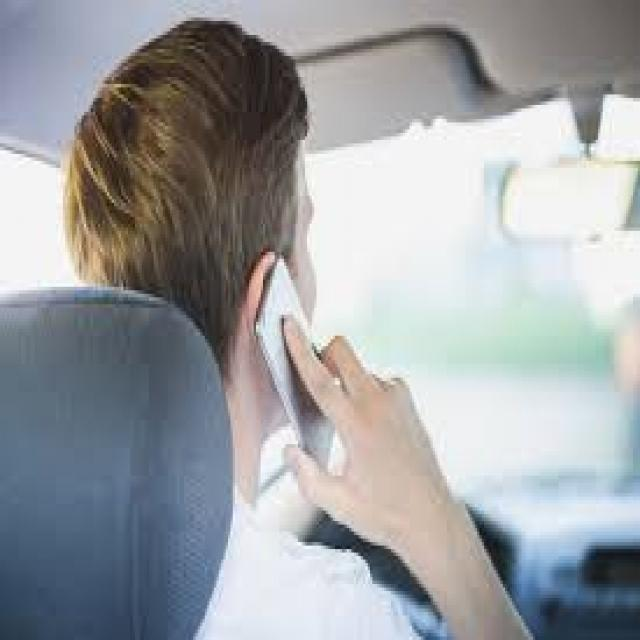using_phone: (213, 205, 423, 495)
